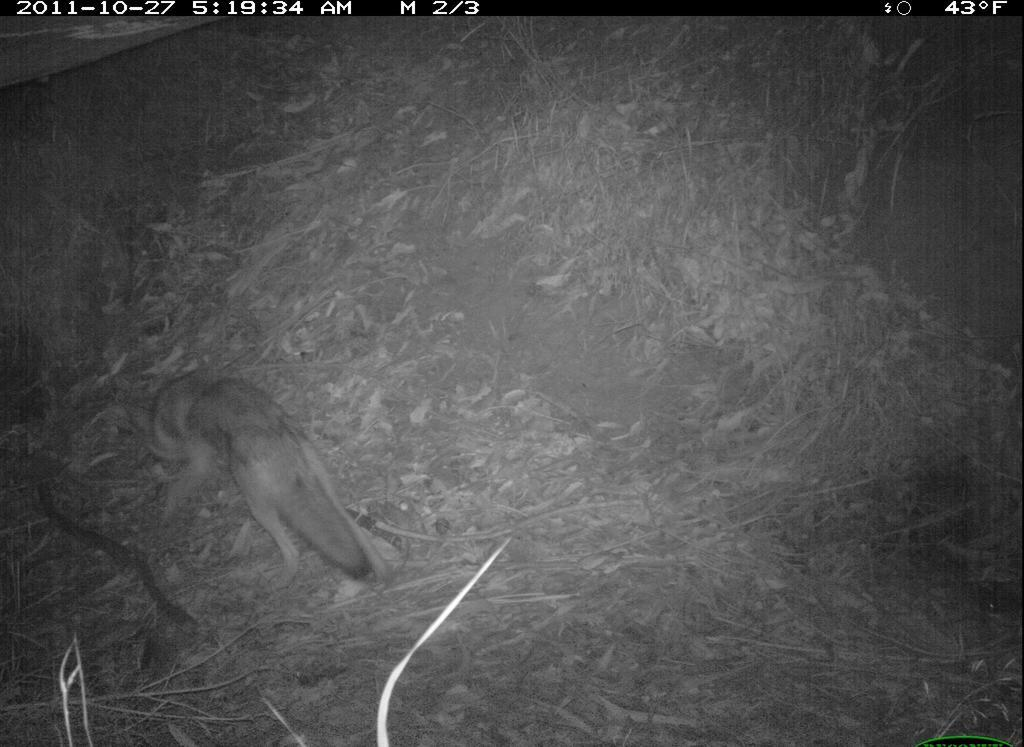coyote: (108, 368, 400, 597)
